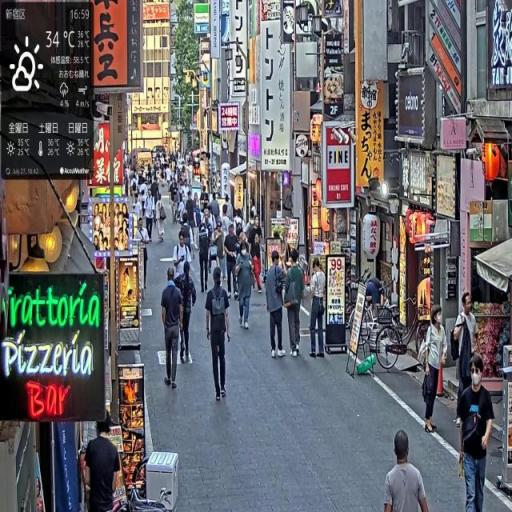person: (458, 354, 496, 512), (384, 428, 431, 512), (205, 265, 232, 403), (453, 291, 480, 427), (82, 418, 121, 512), (420, 308, 447, 436), (160, 266, 184, 391), (283, 252, 306, 361), (266, 249, 287, 359), (177, 260, 198, 365), (235, 235, 256, 332), (309, 259, 327, 361), (199, 210, 214, 295), (225, 223, 239, 299), (145, 190, 157, 243), (157, 195, 168, 244)
